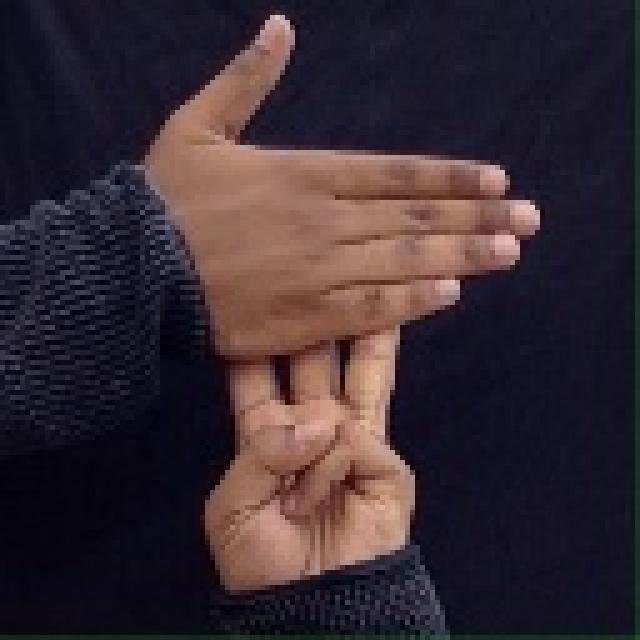Alphabet-M: (148, 12, 546, 581)
